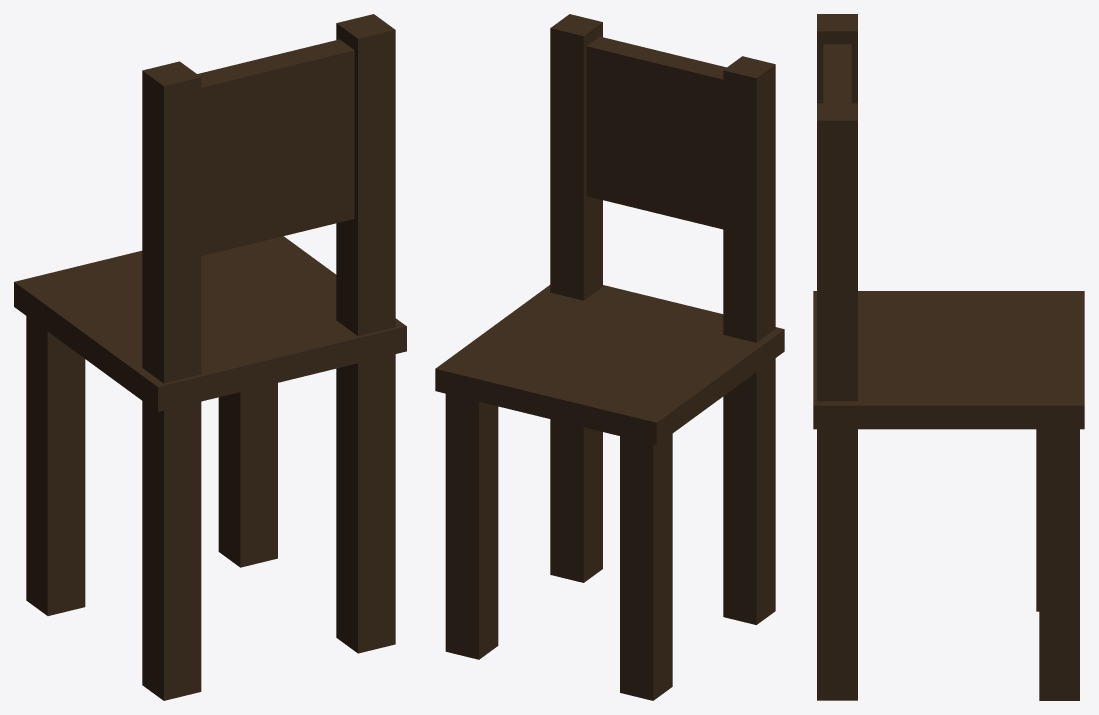
Rendered from Chair.fbx.
3 views of the same model, side by side, from view 1: azimuth 30°, elevation 25°; view 2: azimuth 150°, elevation 25°; view 3: azimuth 270°, elevation 25° (orthographic). The views are drawn at different scales.
Visible parts, largest first — view 1: pasted__pasted__pasted__pCube1 (×2), pasted__pCube1, pCube2, pasted__pasted__pCube1, pCube1; view 2: pasted__pasted__pasted__pCube1 (×2), pCube2, pasted__pCube1, pasted__pasted__pCube1, pCube1; view 3: pCube2, pasted__pasted__pCube1, pasted__pasted__pasted__pCube1 (×2), pasted__pCube1, pCube1.
Boxes of the visible parts, bbox=[...] form: pasted__pasted__pasted__pCube1 (×2): bbox=[197, 39, 354, 567]; pasted__pCube1: bbox=[142, 61, 201, 700]; pCube2: bbox=[14, 236, 406, 411]; pasted__pasted__pCube1: bbox=[336, 14, 395, 653]; pCube1: bbox=[26, 316, 85, 615]; pasted__pasted__pasted__pCube1 (×2): bbox=[445, 36, 726, 659]; pCube2: bbox=[435, 285, 784, 444]; pasted__pCube1: bbox=[723, 56, 775, 624]; pasted__pasted__pCube1: bbox=[550, 14, 602, 582]; pCube1: bbox=[620, 434, 672, 700]; pCube2: bbox=[813, 291, 1084, 429]; pasted__pasted__pCube1: bbox=[817, 103, 857, 700]; pasted__pasted__pasted__pCube1 (×2): bbox=[823, 44, 1079, 700]; pasted__pCube1: bbox=[817, 14, 857, 103]; pCube1: bbox=[1036, 429, 1039, 611].
Bounding box in the file's own units: 5.71 × 13.47 × 5.71.
